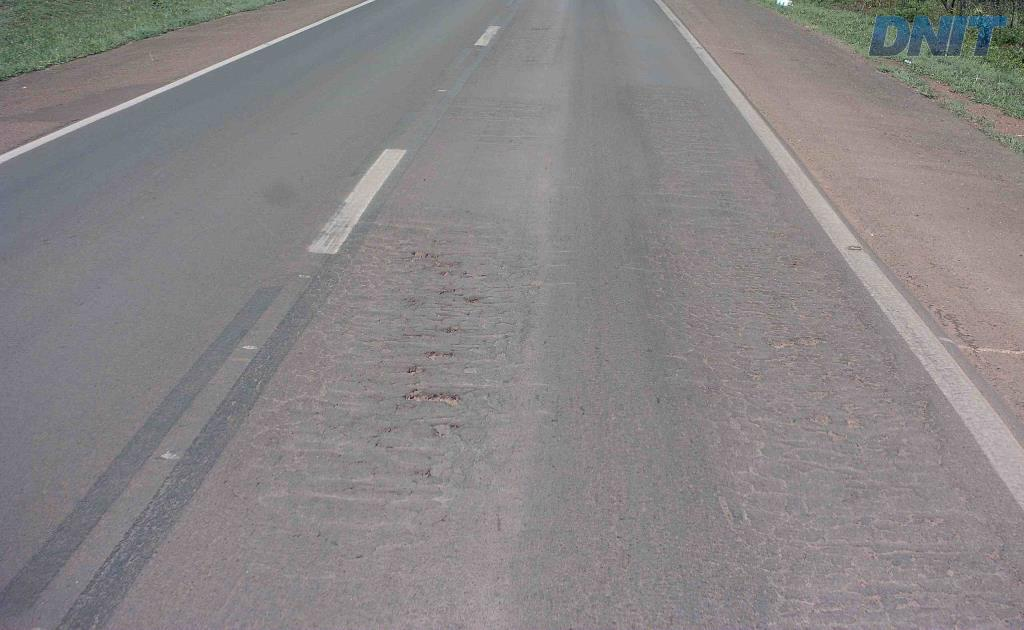crack: (393, 387, 463, 413), (382, 324, 478, 342), (414, 250, 463, 279)
pothole: (400, 385, 461, 407), (425, 345, 454, 362), (411, 246, 440, 262), (398, 362, 422, 375)
